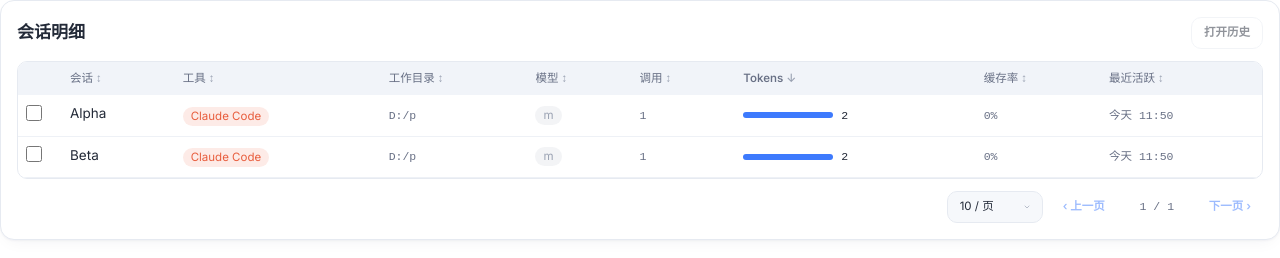
Test case: SessionTable session-history open › renders a per-row checkbox and an open-history button disabled until ≥1 checked
expect the button "打开历史" is disabled: met, box [1191,17,1263,49]
Click the checkbox named "选择 Alpha" at (34, 113), box [26,105,42,121]
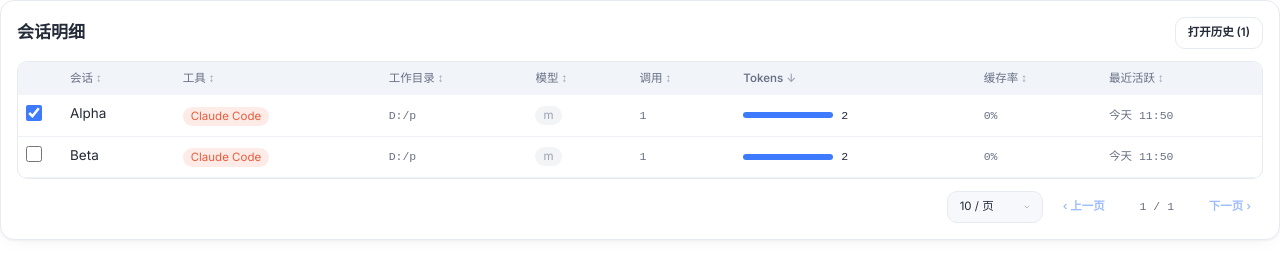
expect the button "打开历史 (1)" is enabled: met, box [1175,17,1263,49]
